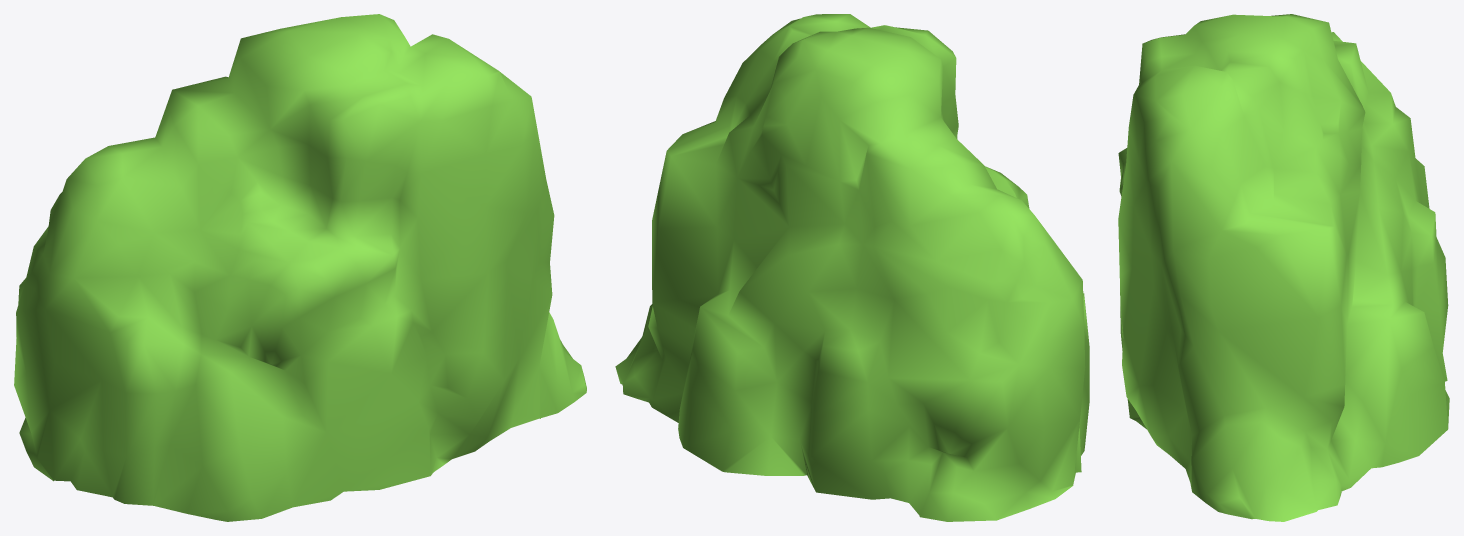
The model's file is rock_half_03.FBX.
3 views of the same model, side by side, from view 1: azimuth 30°, elevation 25°; view 2: azimuth 150°, elevation 25°; view 3: azimuth 270°, elevation 25° (orthographic). The views are drawn at different scales.
Visible parts, largest first — view 1: rock_half_03; view 2: rock_half_03; view 3: rock_half_03.
Boxes of the visible parts, <box> form: rock_half_03: <box>14,14,586,521</box>; rock_half_03: <box>615,14,1089,521</box>; rock_half_03: <box>1118,14,1449,521</box>.
Bounding box in the file's own units: 558 × 415 × 328.
